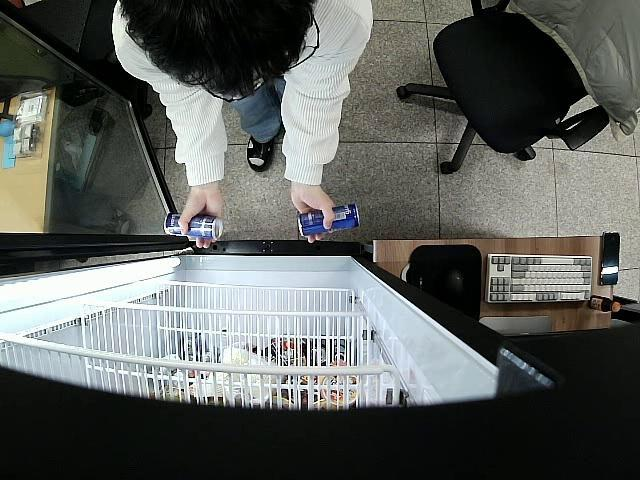16_hot6: (298, 203, 360, 238), (164, 212, 224, 240)
